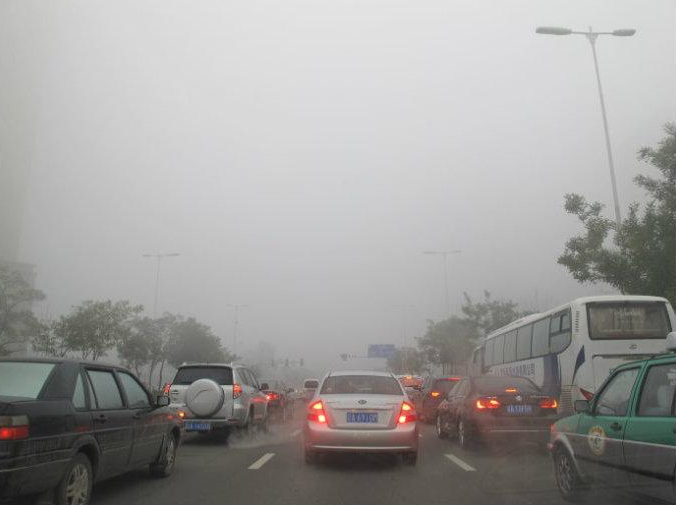bus: (465, 294, 676, 446)
car: (1, 358, 181, 505), (547, 331, 676, 505), (303, 363, 420, 466), (433, 376, 558, 456), (162, 361, 270, 447), (407, 376, 473, 426), (245, 377, 292, 423), (385, 373, 426, 406), (299, 378, 322, 402)
